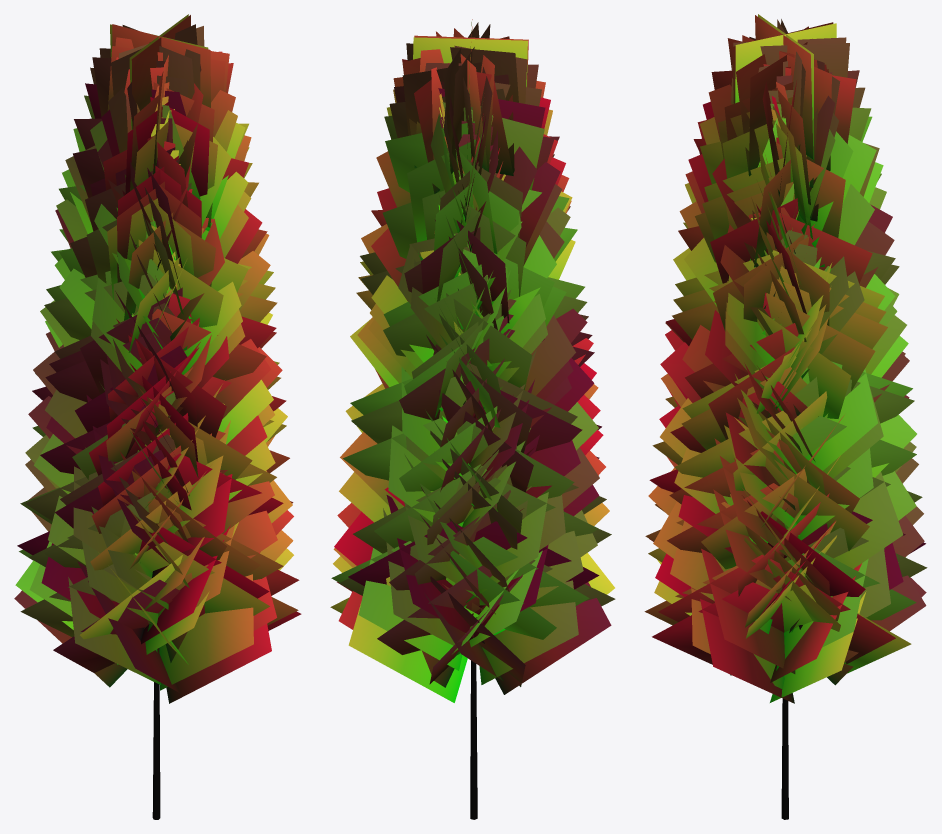
Rendered from URP_P4_Tree_3_LOD_3.fbx.
3 renders of one model, left to right at view 1: azimuth 30°, elevation 25°; view 2: azimuth 150°, elevation 25°; view 3: azimuth 270°, elevation 25°, orthographic.
Parts seen in each view (by area): view 1: Tree_3_LOD_3; view 2: Tree_3_LOD_3; view 3: Tree_3_LOD_3.
Part boxes in pixels (bbox=[...]): Tree_3_LOD_3: bbox=[14, 14, 301, 819]; Tree_3_LOD_3: bbox=[330, 19, 615, 819]; Tree_3_LOD_3: bbox=[644, 14, 927, 819].
Bounding box in the file's own units: 209 × 641 × 209.
